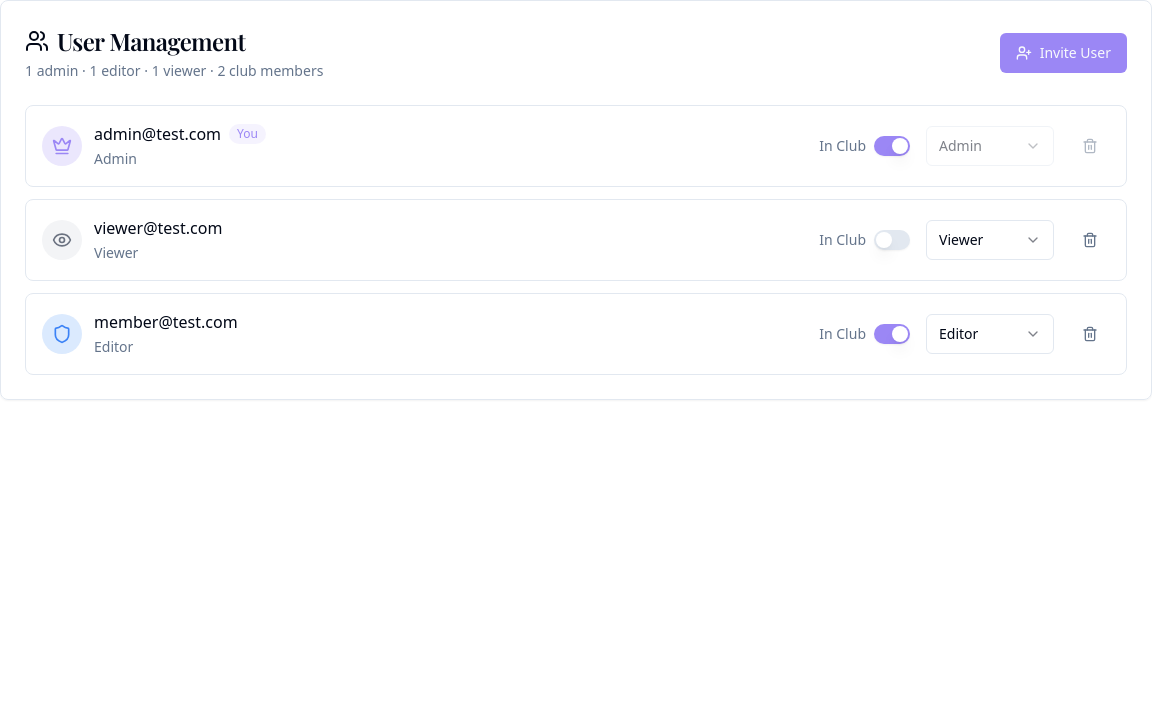
Scenario: UserManagement › Add User Dialog › shows member option in add dialog role selector
Expected: the text "admin@test.com" is shown, 94,122 -> 221,146
Click the button "Invite User". click: coordinates (1063, 53)
box: 1000,33 -> 1127,73
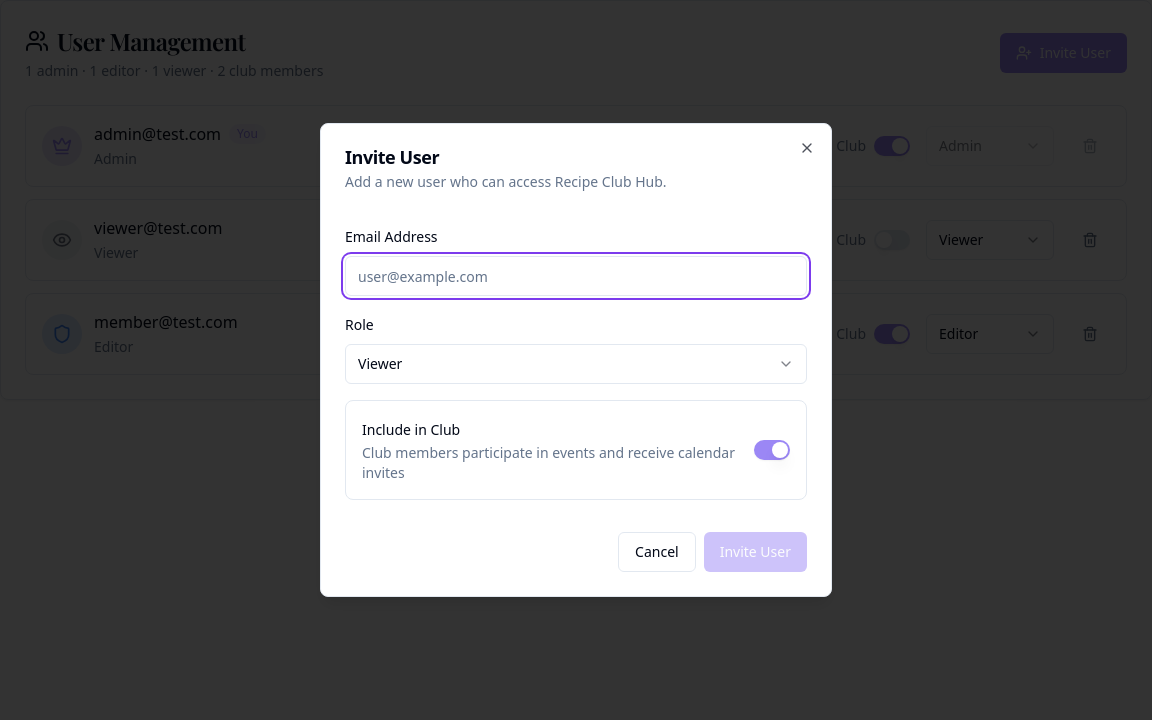
Click the dropdown labelled "Viewer". click: coordinates (380, 364)
box: 345,344 -> 807,384
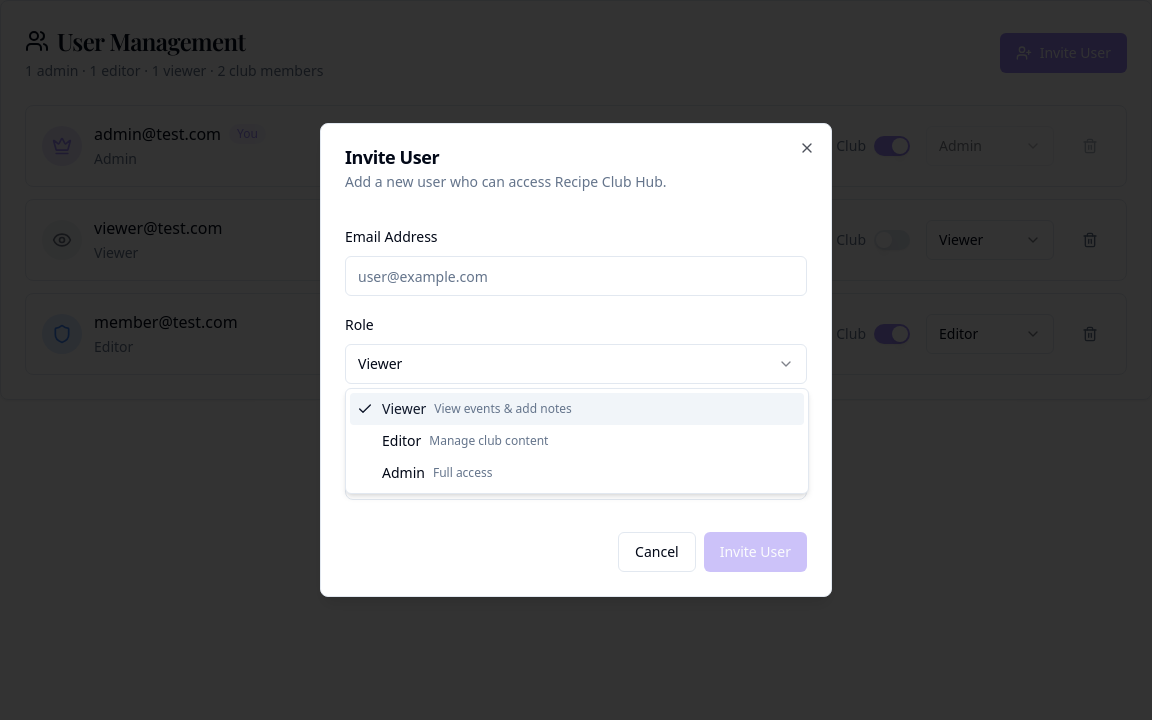
Expected: the option "Editor Manage club content" is shown, 382,431 -> 548,450
